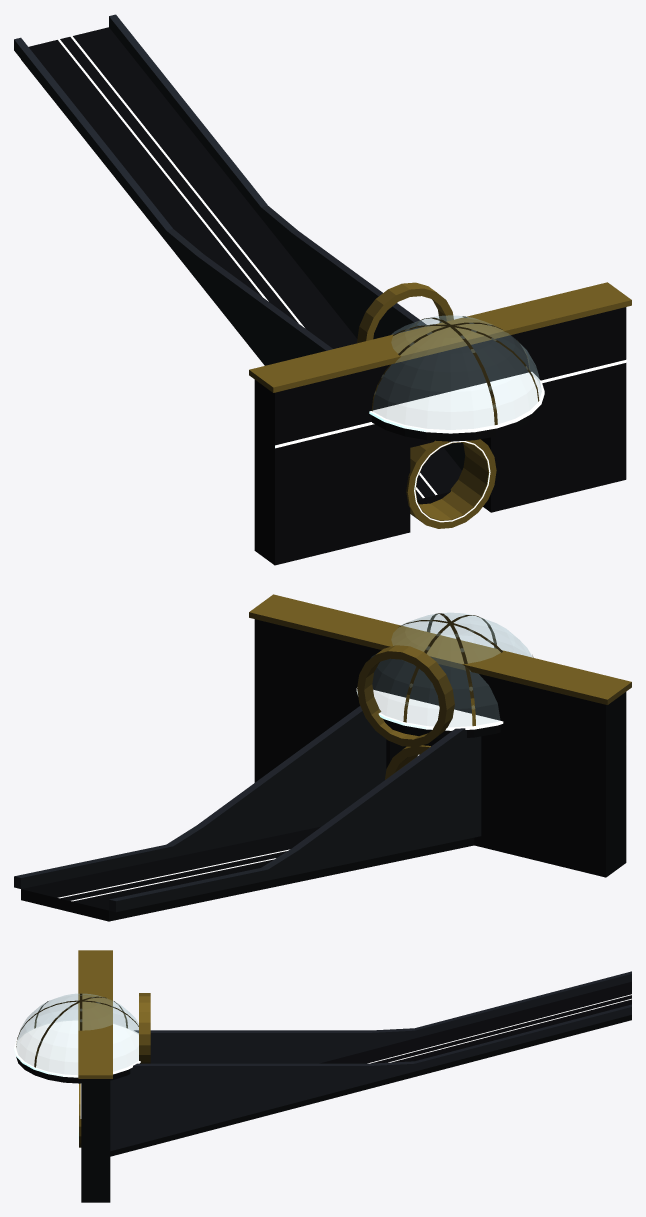
Rendered from shaddai_water_link_v01.glb.
3 renders of one model, top to bottom at view 1: azimuth 30°, elevation 25°; view 2: azimuth 150°, elevation 25°; view 3: azimuth 270°, elevation 25°, orthographic. The views are drawn at different scales.
Visible parts, largest first — view 1: shore_portal, coastal_ramp, reef_dock_dome, reef_dock; view 2: shore_portal, coastal_ramp, reef_dock_dome, reef_dock; view 3: coastal_ramp, shore_portal, reef_dock_dome, reef_dock.
Part boxes in pixels (bbox=[...]): shore_portal: bbox=[249, 282, 631, 565]; coastal_ramp: bbox=[14, 14, 465, 504]; reef_dock_dome: bbox=[373, 315, 541, 429]; reef_dock: bbox=[357, 282, 544, 441]; shore_portal: bbox=[249, 594, 631, 877]; coastal_ramp: bbox=[14, 706, 481, 921]; reef_dock_dome: bbox=[371, 613, 532, 726]; reef_dock: bbox=[356, 613, 533, 747]; coastal_ramp: bbox=[110, 971, 631, 1156]; shore_portal: bbox=[78, 950, 112, 1202]; reef_dock_dome: bbox=[16, 994, 138, 1074]; reef_dock: bbox=[14, 993, 150, 1083].
Bounding box in the file's own units: 40.8 × 23.66 × 85.27.
